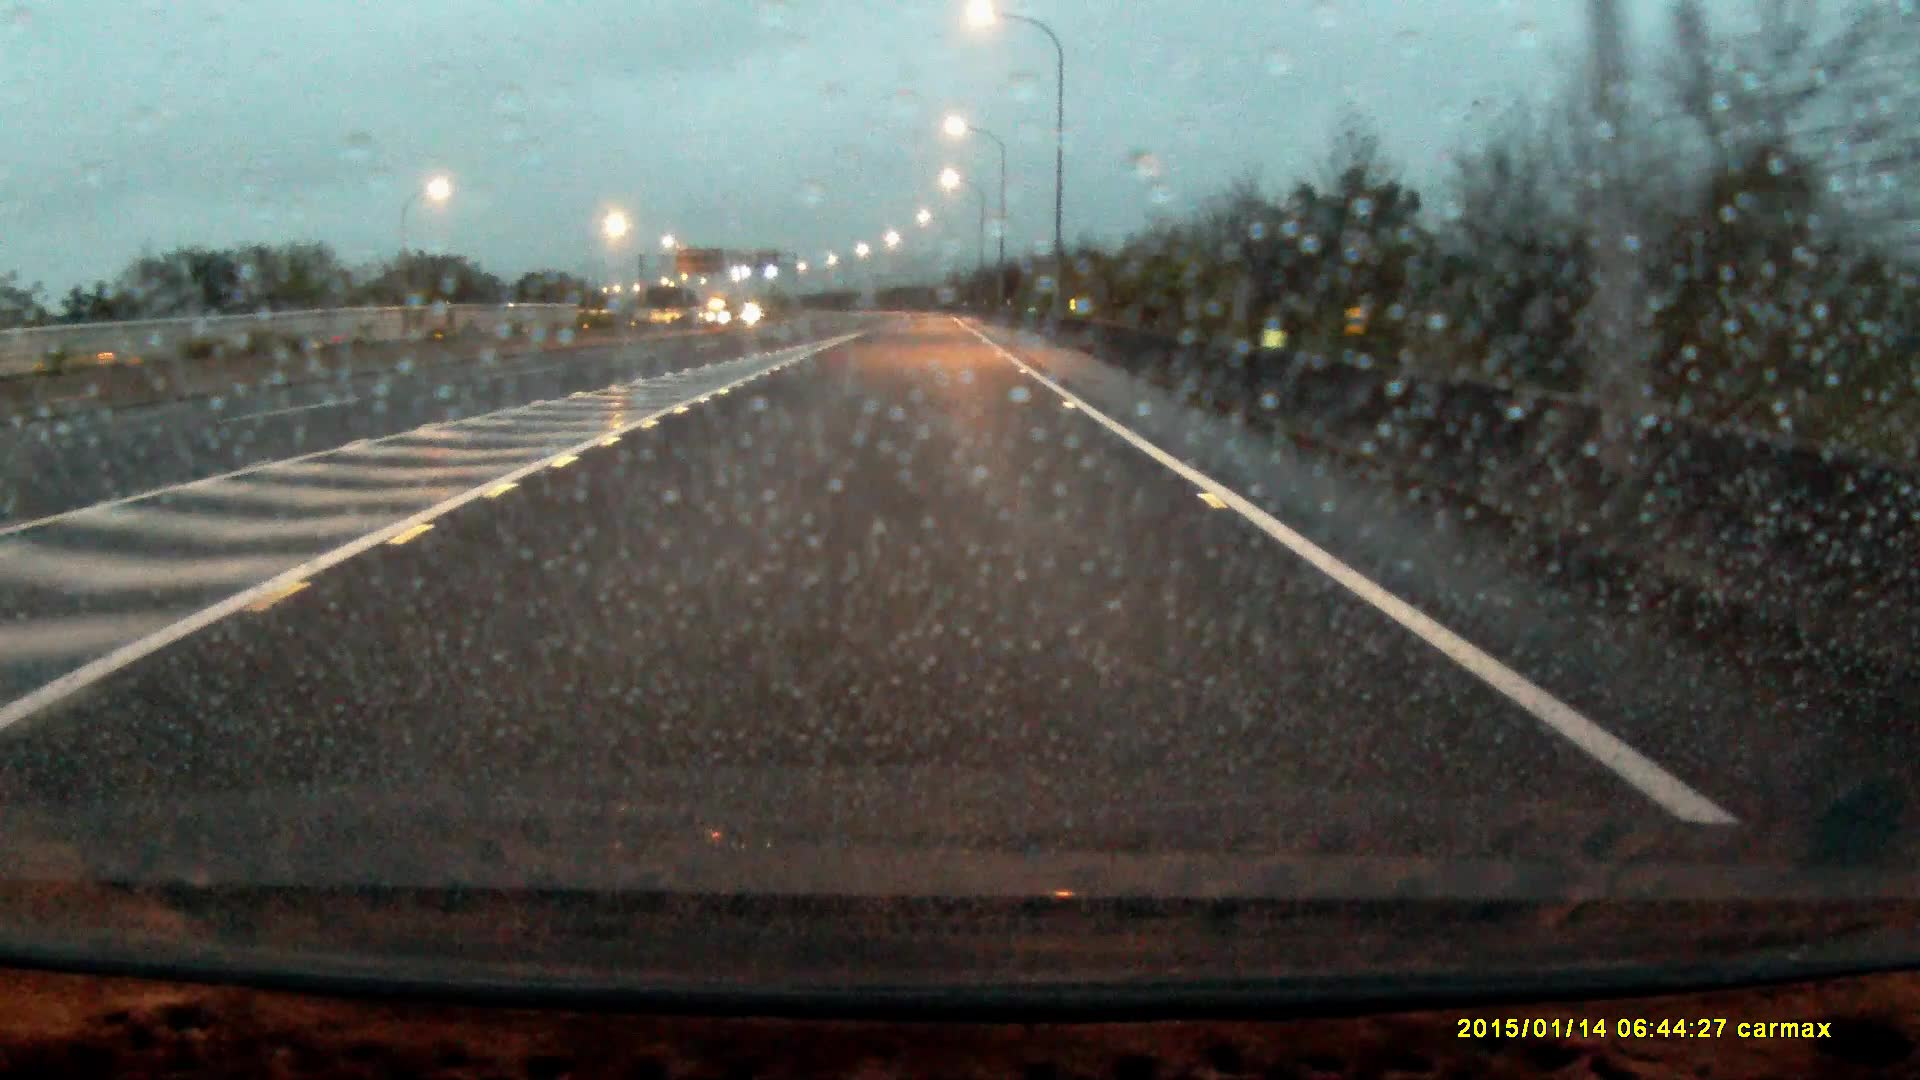vehicle: (705, 297, 735, 324)
